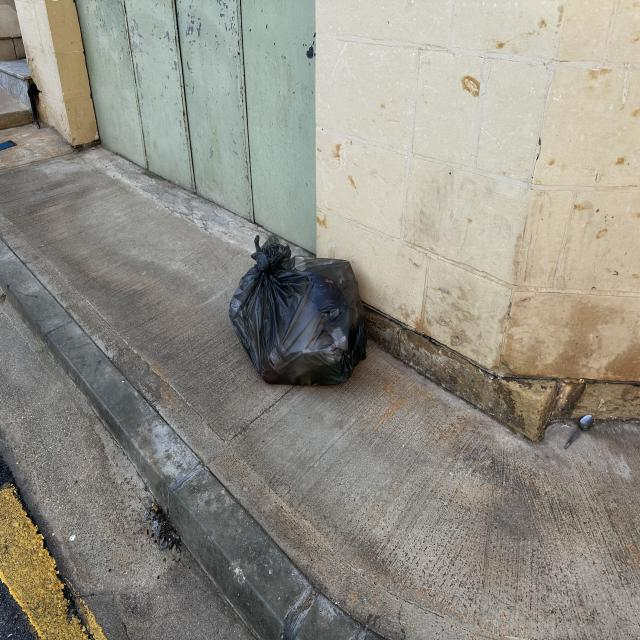Mixed Waste -Black Bags-: (228, 235, 367, 386)
